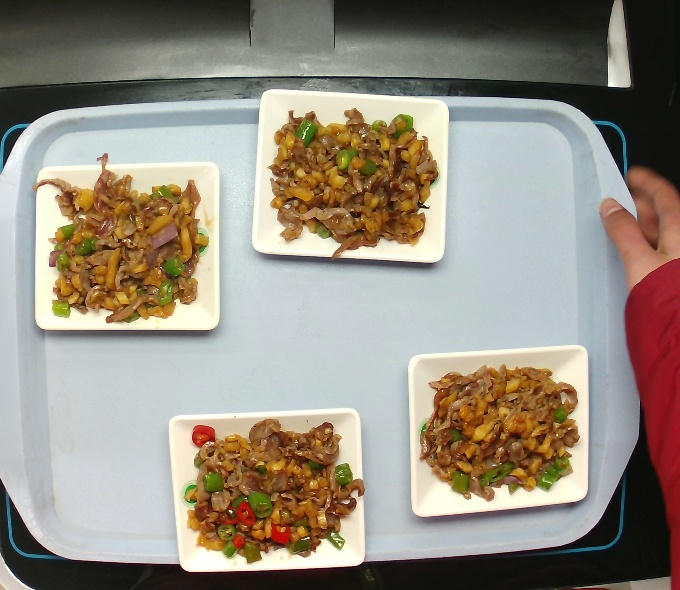wcq-ZhaCaiChaoJiZhen: (37, 147, 213, 336), (174, 410, 366, 570), (255, 96, 446, 256), (416, 357, 584, 506)
